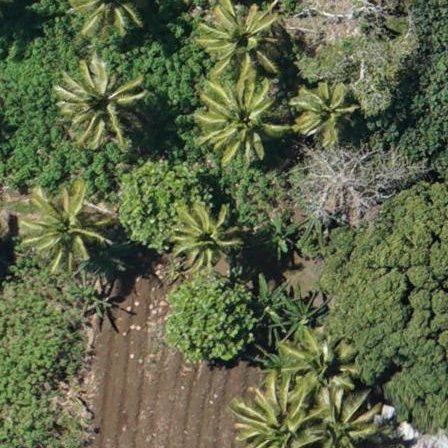palm_tree: (189, 64, 275, 156), (21, 177, 104, 266), (62, 56, 145, 144), (238, 382, 316, 448), (202, 1, 273, 73), (169, 195, 238, 268), (292, 78, 351, 141)
